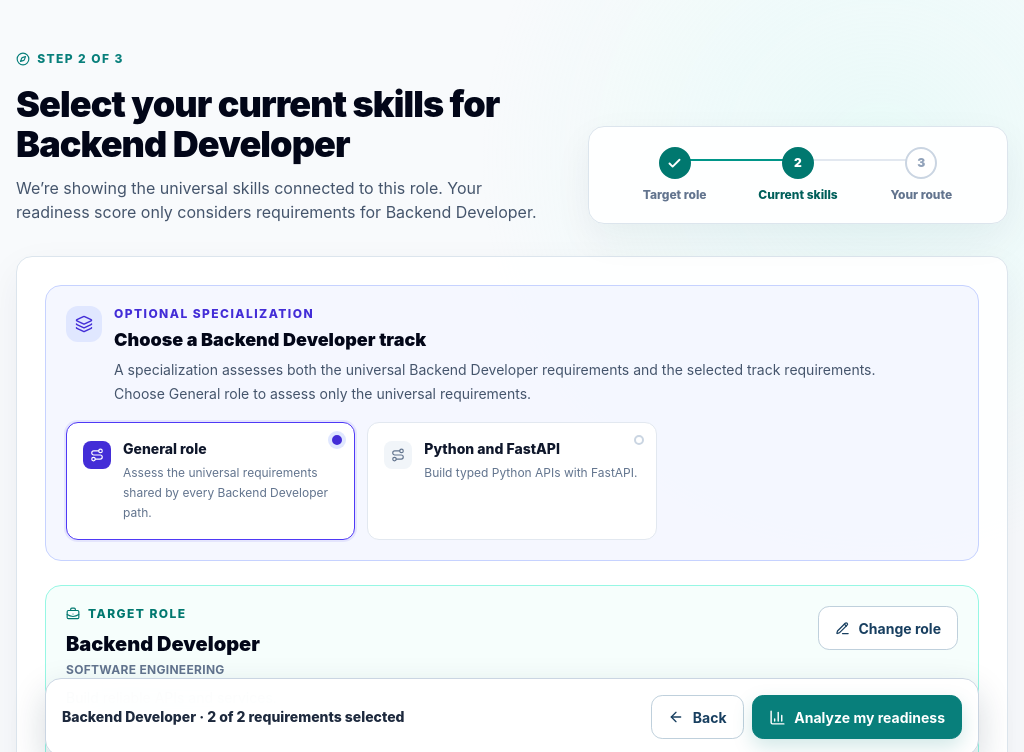
Planner role navigation › navigates from Step 3 to target role and current skills with accessible progress buttons
This screenshot has width=1024, height=752.
Click the button "Analyze my readiness": (857, 717) [752, 695, 962, 739]
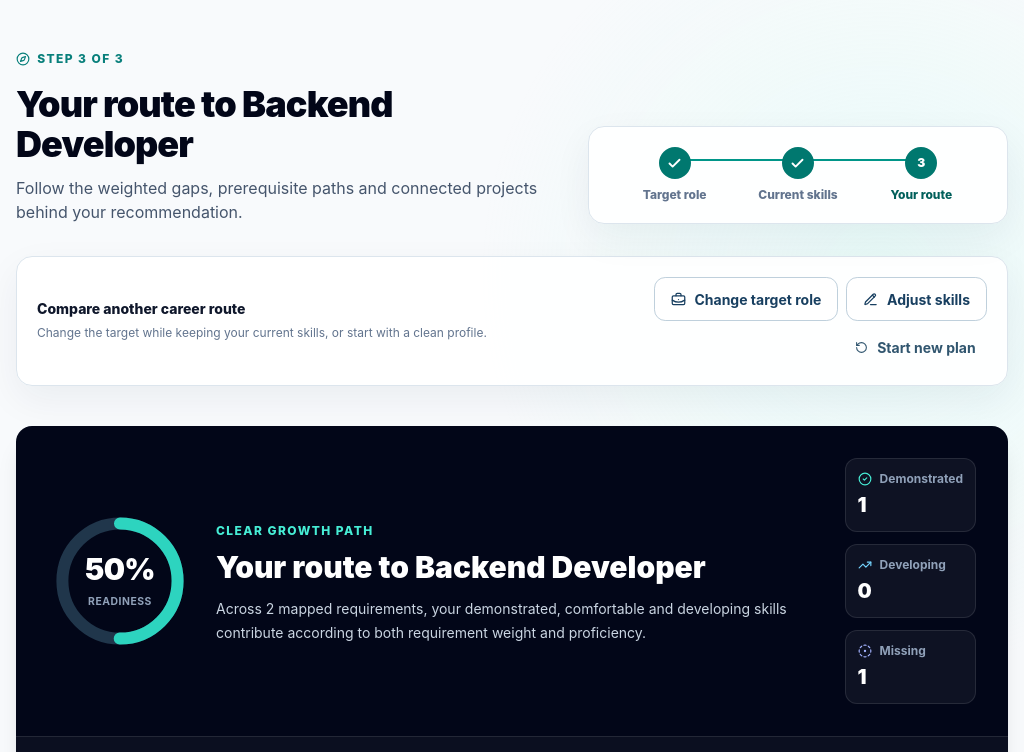
Result: the picture named "50% weighted readiness" is shown at [48, 509, 192, 653]
Click the button with aria-label "Go to step 1: Target role": (675, 175) [639, 143, 710, 207]
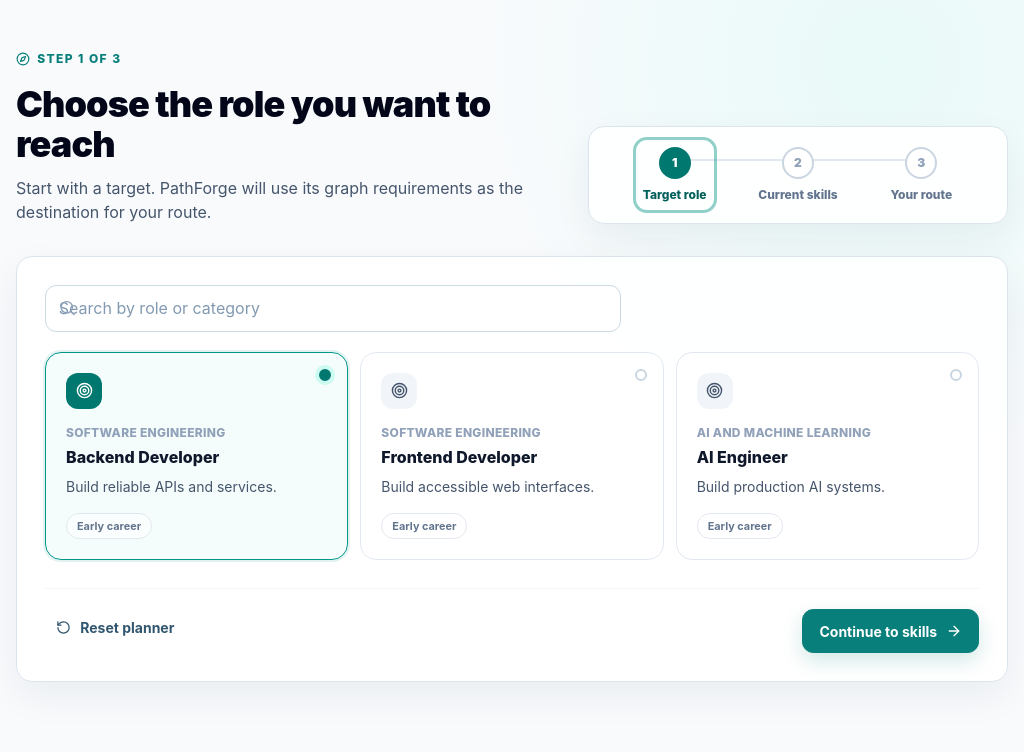
Result: the heading "Choose the role you want to reach" is shown at [16, 84, 560, 164]
Click the button with aria-label "Go to step 3: Your route": (921, 175) [886, 143, 956, 207]
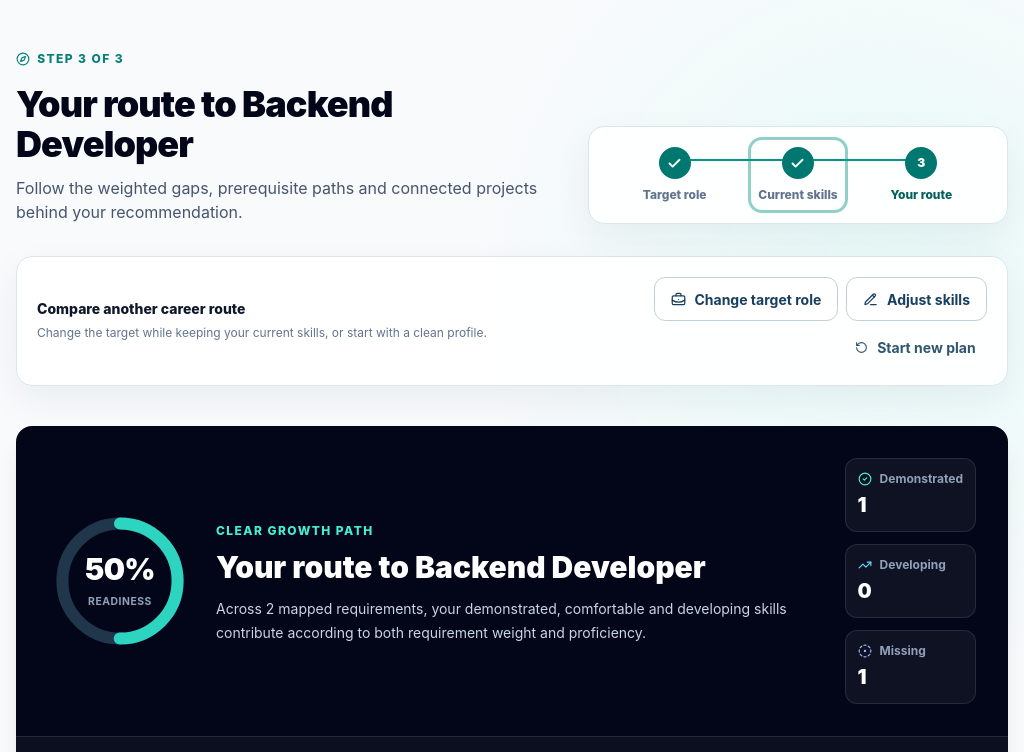
Result: the picture named "50% weighted readiness" is shown at [48, 509, 192, 653]
Press Enter
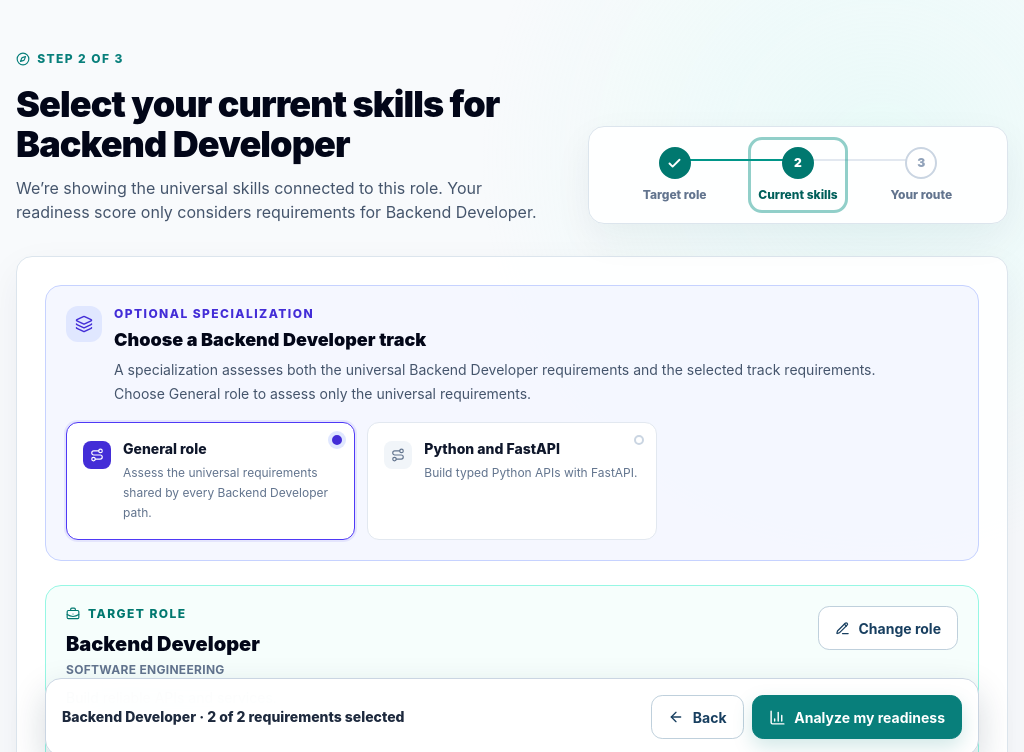
Result: the heading "Select your current skills for Backend Developer" is shown at [16, 84, 560, 164]
